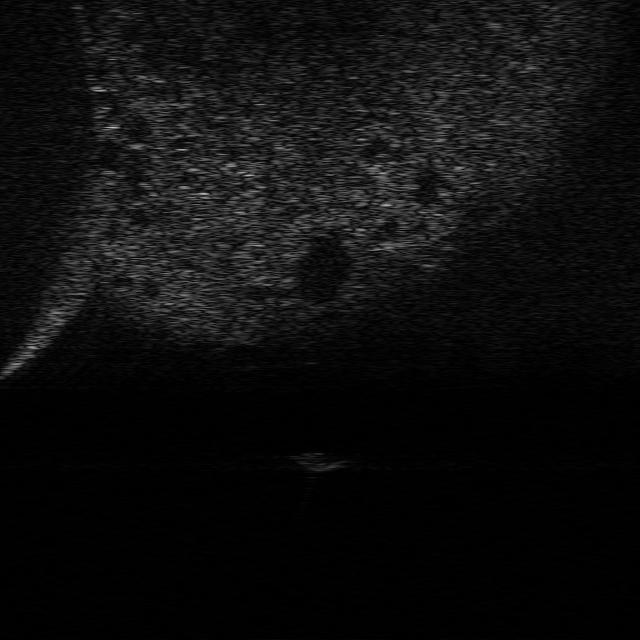cube: (290, 449, 348, 474)
